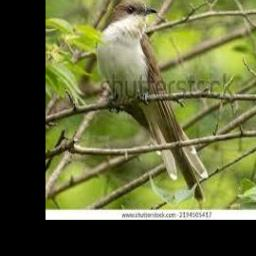Cuckoo: (98, 0, 210, 200)
